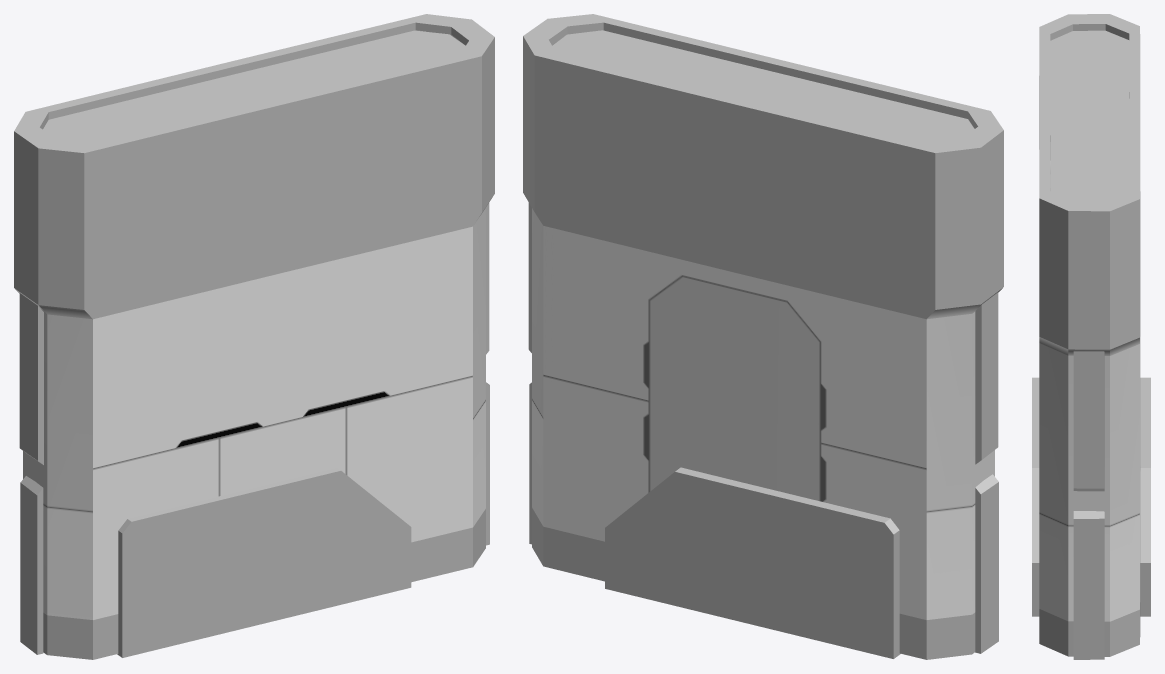
Rendered from SM_BuildingExtra_Wall_1.fbx.
3 views of the same model, side by side, from view 1: azimuth 30°, elevation 25°; view 2: azimuth 150°, elevation 25°; view 3: azimuth 270°, elevation 25° (orthographic). The views are drawn at different scales.
Parts seen in each view (by area): view 1: SM_BuildingExtra_Wall_1; view 2: SM_BuildingExtra_Wall_1; view 3: SM_BuildingExtra_Wall_1.
Boxes of the visible parts, x1,y1,x2,y2 form: SM_BuildingExtra_Wall_1: [14, 14, 494, 659]; SM_BuildingExtra_Wall_1: [523, 14, 1003, 659]; SM_BuildingExtra_Wall_1: [1032, 14, 1150, 659].
Size of the model in its own units: 313 by 333 by 79.59.
